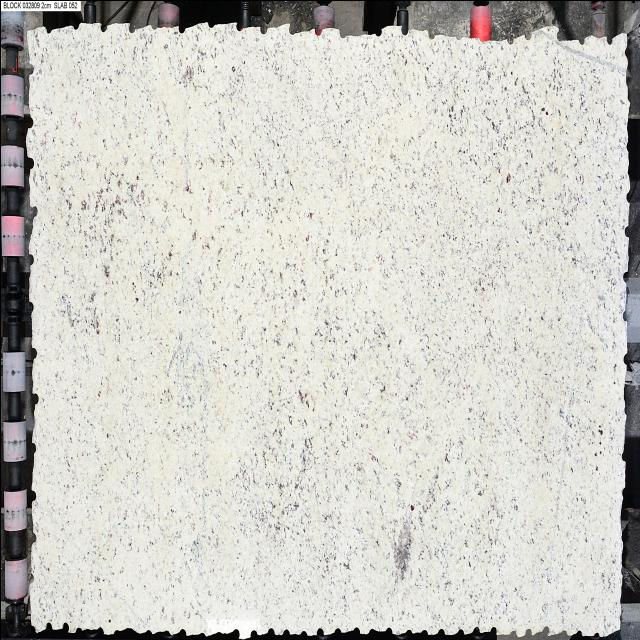chapa: (26, 23, 628, 633)
veio: (26, 200, 39, 218), (226, 626, 242, 640), (29, 388, 40, 408), (538, 620, 550, 638), (397, 20, 409, 38), (314, 622, 324, 638)
